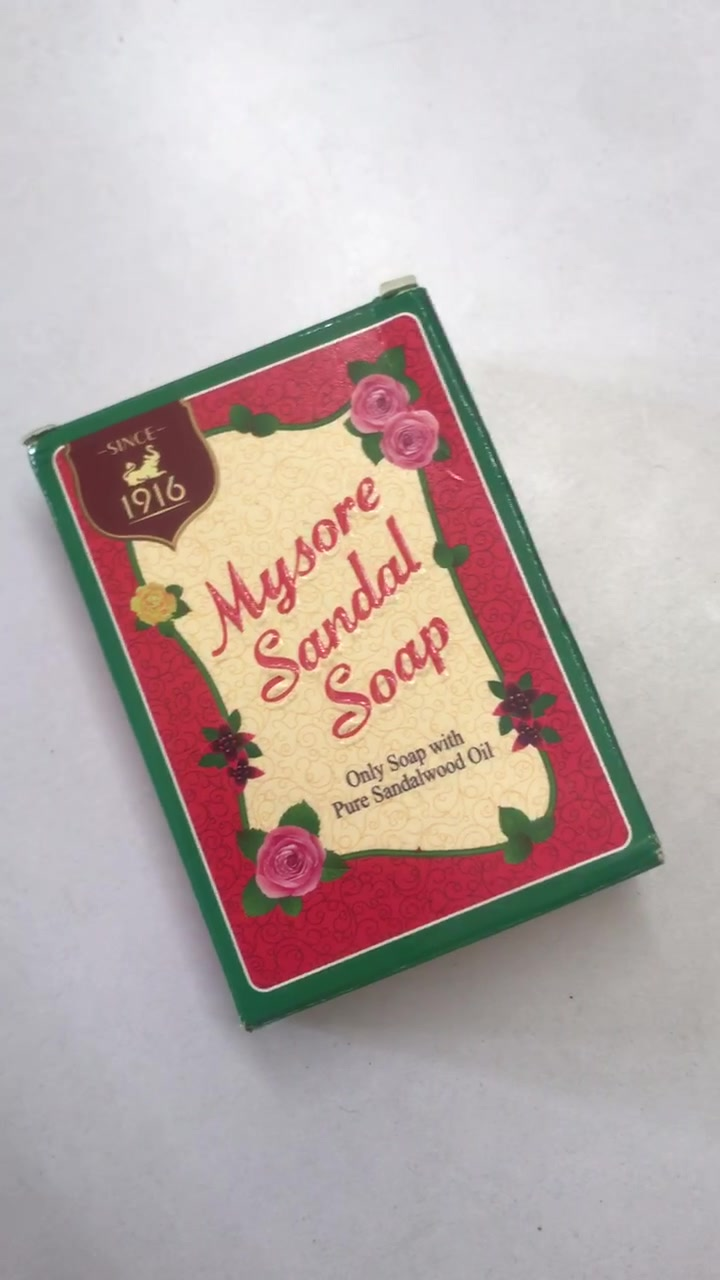mysore sandal soap: (28, 289, 663, 1030)
